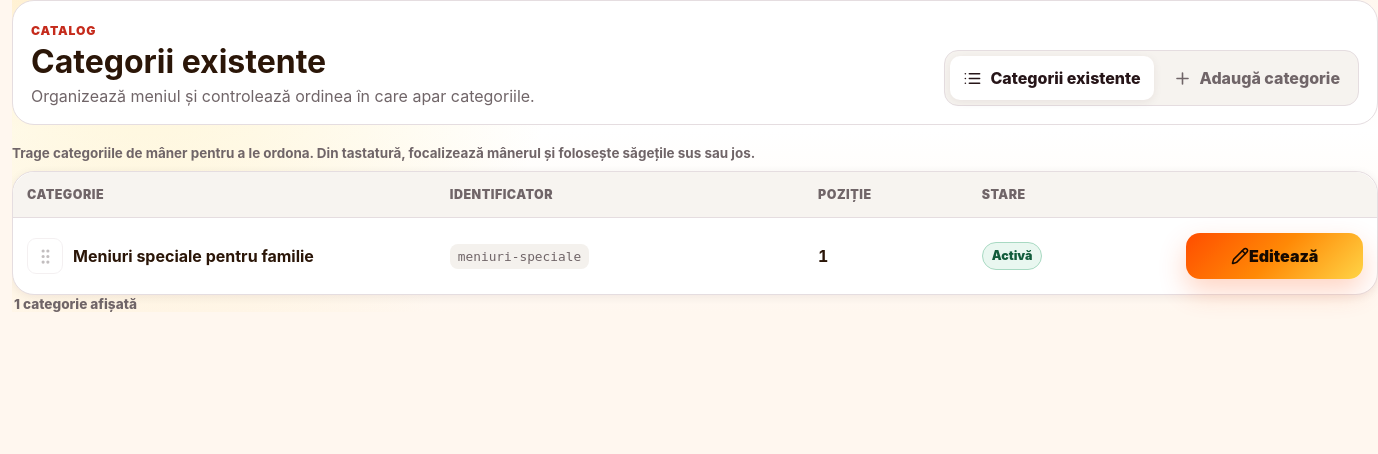
Test: CategoriesPanel › keeps category creation separate from the table
The width and height of the screenshot is (1378, 454).
Expected: the heading "Categorie nouă" is not shown
Click the button "Adaugă categorie" at point(1256, 78), box [1160,56,1353,100]
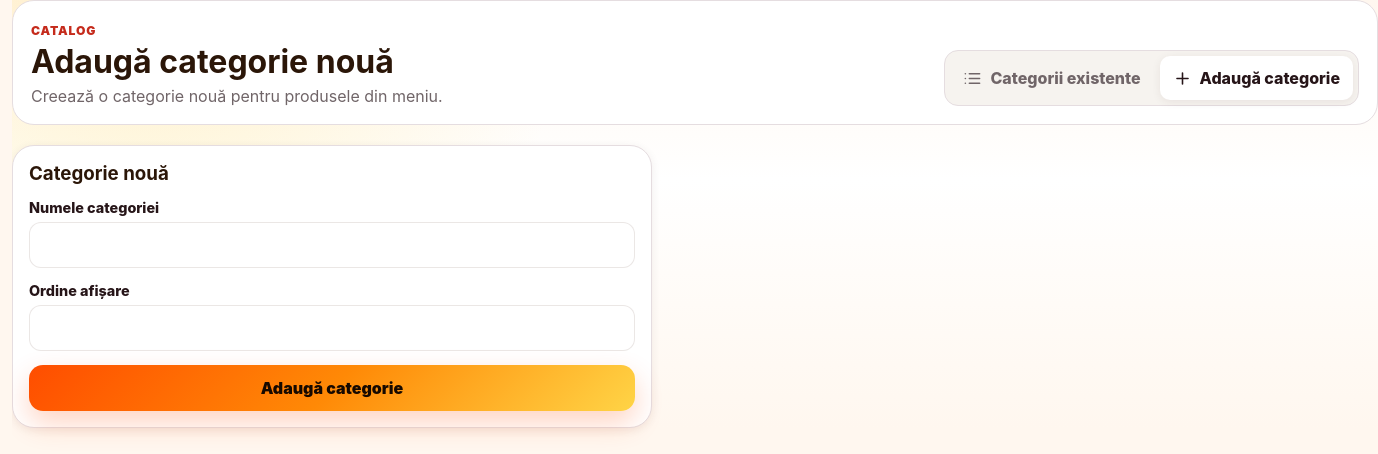
Expected: the heading "Categorie nouă" is shown, [29,162,169,185]
Expected: the table is gone
